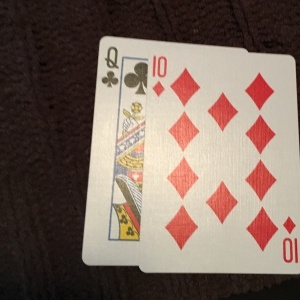card: (81, 34, 149, 266)
